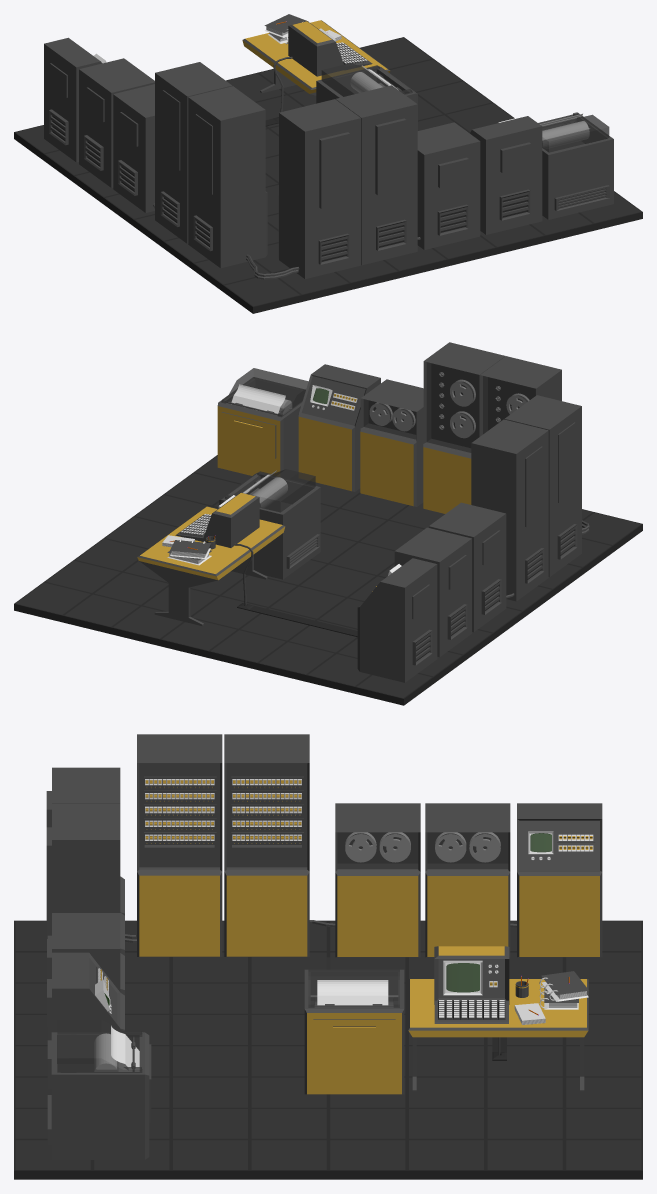
File: ServerRoom.fbx
3 views of the same model, one above another, from view 1: azimuth 30°, elevation 25°; view 2: azimuth 150°, elevation 25°; view 3: azimuth 270°, elevation 25° (orthographic). The views are drawn at different scales.
Visible parts, largest first — view 1: Floor_Cube.588, ModuleWithButtons_Cube.047, ModuleWithTapes.002_Cube.046, ModuleWithTapes.001_Cube.044, ModuleWithTapes_Cube, ModuleWithScreen_Cube.002, ModuleWithButtons.001_Cube.294, PrinterModule_Cube.042, ModuleWithTapes.004_Cube.541, ModuleWithTapes.003_Cube.540, ModuleWithScreen.001_Cube.542, Desk_Cube.579 (+27 smaller); view 2: Floor_Cube.588, ModuleWithTapes.001_Cube.044, ModuleWithButtons.001_Cube.294, ModuleWithTapes_Cube, ModuleWithScreen.001_Cube.542, ModuleWithScreen_Cube.002, PrinterModule_Cube.042, Desk_Cube.579, ModuleWithButtons_Cube.047, PrinterModule.001_Cube.608, ModuleWithTapes.004_Cube.541, ModuleWithTapes.003_Cube.540 (+17 smaller); view 3: Floor_Cube.588, ModuleWithButtons.001_Cube.294, ModuleWithButtons_Cube.047, ModuleWithTapes.003_Cube.540, ModuleWithTapes.004_Cube.541, ModuleWithScreen.001_Cube.542, PrinterModule_Cube.042, PrinterModule.001_Cube.608, ModuleWithTapes.001_Cube.044, Desk_Cube.579, ModuleWithScreen_Cube.002, ModuleWithTapes_Cube (+16 smaller).
Part boxes in pixels (left/top/right/bottom): Floor_Cube.588: left=14, top=37, right=642, bottom=313; ModuleWithButtons_Cube.047: left=188, top=86, right=267, bottom=268; ModuleWithTapes.002_Cube.046: left=278, top=99, right=360, bottom=278; ModuleWithTapes.001_Cube.044: left=335, top=85, right=417, bottom=265; ModuleWithTapes_Cube: left=417, top=122, right=480, bottom=249; ModuleWithScreen_Cube.002: left=470, top=116, right=542, bottom=234; ModuleWithButtons.001_Cube.294: left=155, top=62, right=232, bottom=243; PrinterModule_Cube.042: left=538, top=114, right=613, bottom=219; ModuleWithTapes.004_Cube.541: left=79, top=58, right=154, bottom=187; ModuleWithTapes.003_Cube.540: left=113, top=84, right=154, bottom=212; ModuleWithScreen.001_Cube.542: left=44, top=37, right=102, bottom=162; Desk_Cube.579: left=242, top=20, right=390, bottom=95; Floor_Cube.588: left=14, top=455, right=642, bottom=705; ModuleWithTapes.001_Cube.044: left=423, top=342, right=505, bottom=513; ModuleWithButtons.001_Cube.294: left=471, top=419, right=548, bottom=601; ModuleWithTapes_Cube: left=360, top=379, right=423, bottom=506; ModuleWithScreen.001_Cube.542: left=357, top=558, right=437, bottom=682; ModuleWithScreen_Cube.002: left=298, top=364, right=380, bottom=491; PrinterModule_Cube.042: left=217, top=377, right=305, bottom=478; Desk_Cube.579: left=137, top=506, right=285, bottom=626; ModuleWithButtons_Cube.047: left=504, top=395, right=581, bottom=576; PrinterModule.001_Cube.608: left=219, top=472, right=320, bottom=579; ModuleWithTapes.004_Cube.541: left=394, top=527, right=471, bottom=657; ModuleWithTapes.003_Cube.540: left=429, top=502, right=506, bottom=632; Floor_Cube.588: left=14, top=920, right=642, bottom=1179; ModuleWithButtons.001_Cube.294: left=224, top=734, right=309, bottom=956; ModuleWithButtons_Cube.047: left=137, top=734, right=222, bottom=956; ModuleWithTapes.003_Cube.540: left=335, top=803, right=420, bottom=957; ModuleWithTapes.004_Cube.541: left=425, top=803, right=510, bottom=957; ModuleWithScreen.001_Cube.542: left=517, top=803, right=602, bottom=957; PrinterModule_Cube.042: left=51, top=1032, right=151, bottom=1159; PrinterModule.001_Cube.608: left=304, top=969, right=404, bottom=1094; ModuleWithTapes.001_Cube.044: left=52, top=804, right=124, bottom=955; Desk_Cube.579: left=408, top=979, right=588, bottom=1092; ModuleWithScreen_Cube.002: left=52, top=952, right=124, bottom=1032; ModuleWithTapes_Cube: left=52, top=913, right=124, bottom=995.
Size of the model in its own units: 2703 by 1077 by 2871.
